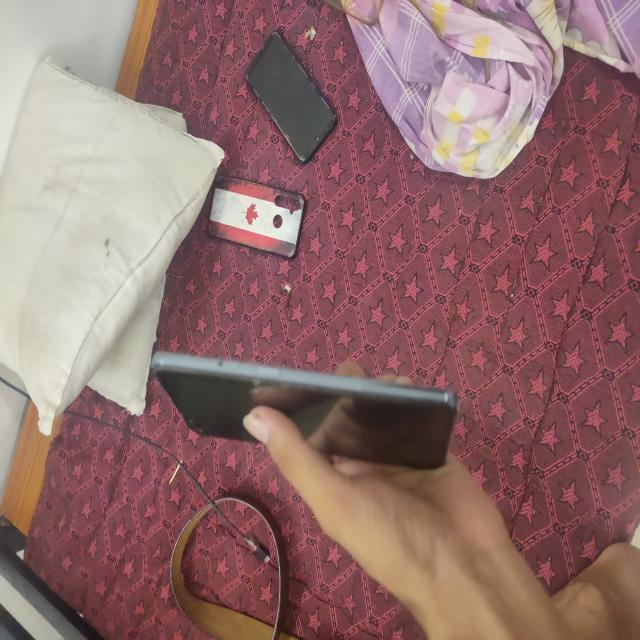Phone: (148, 348, 461, 478), (240, 28, 343, 168), (203, 173, 308, 263)
